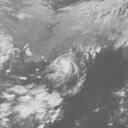cyclone: (46, 50, 85, 91)
